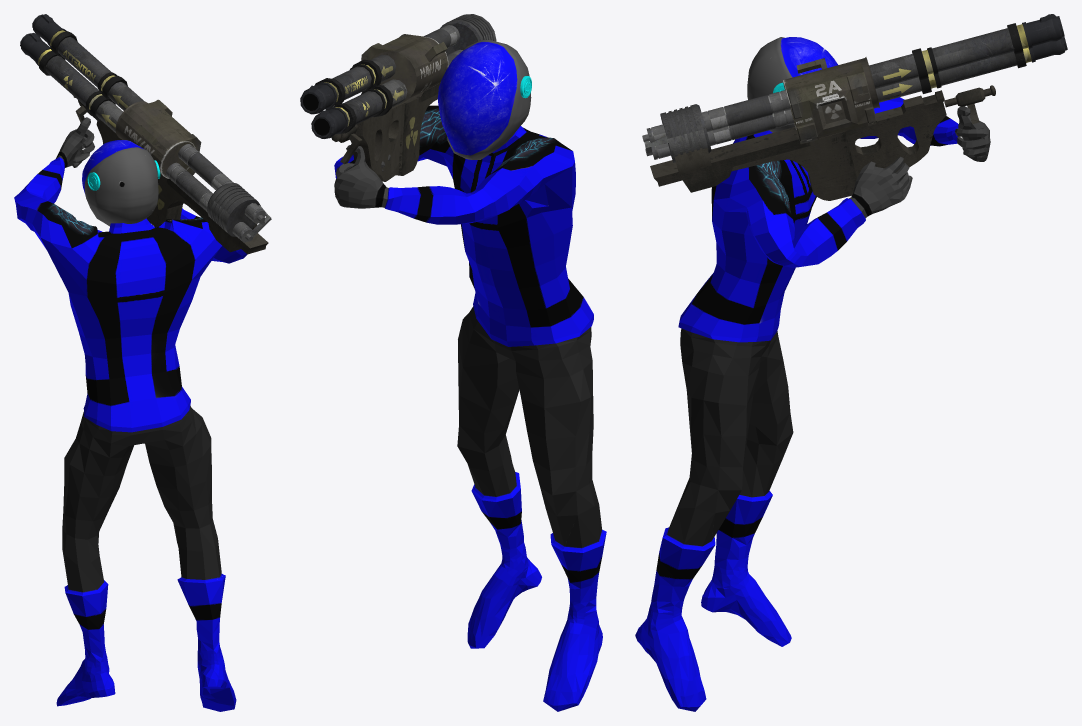
3 renders of one model, left to right at view 1: azimuth 30°, elevation 25°; view 2: azimuth 150°, elevation 25°; view 3: azimuth 270°, elevation 25°, orthographic. The views are drawn at different scales.
Visible parts, largest first — view 1: Brazos2, Piernas1, group1_polySurface5, Cabeza1; view 2: Piernas1, Brazos2, group1_polySurface5, Cabeza1; view 3: group1_polySurface5, Piernas1, Brazos2, Cabeza1.
Part boxes in pixels (x1,y1,x2,y2): Brazos2: [14, 117, 247, 432]; Piernas1: [56, 405, 236, 711]; group1_polySurface5: [20, 14, 271, 254]; Cabeza1: [82, 140, 160, 226]; Piernas1: [457, 306, 606, 711]; Brazos2: [334, 105, 593, 346]; group1_polySurface5: [300, 14, 496, 181]; Cabeza1: [437, 40, 531, 159]; group1_polySurface5: [642, 14, 1067, 200]; Piernas1: [635, 328, 793, 711]; Brazos2: [678, 97, 990, 342]; Cabeza1: [747, 37, 837, 132].
Size of the model in its own units: 70.61 by 197 by 113.
